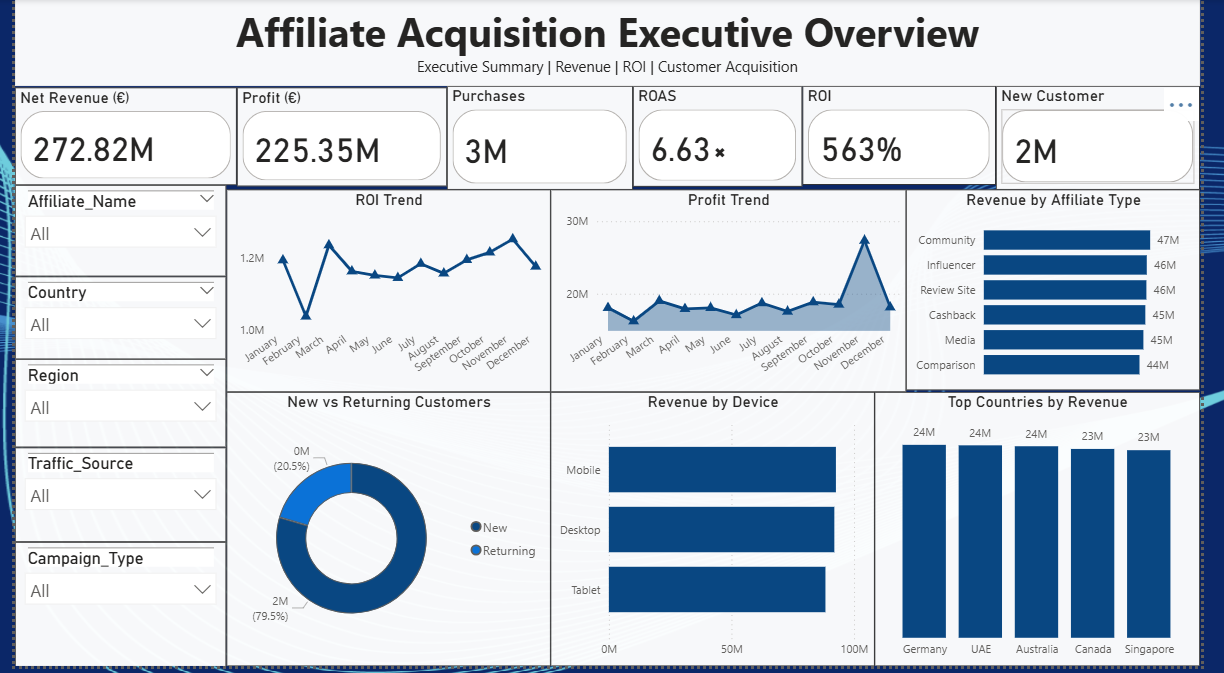

The dashboard page shown, as its layout file describes it:
{"tool":"powerbi","page":{"name":"Executive Overview","canvas":[1280,720],"ordinal":0},"visuals":[{"type":"cardVisual","title":"Net Revenue (€)","fields":{"Data":["Sum(Sheet1.Net_Revenue)"]},"box":[0,95.5,239.6,105.2],"z":0},{"type":"cardVisual","title":"Profit (€)","fields":{"Data":["Sum(Sheet1.Profit)"]},"box":[239.6,95.5,226.7,106.9],"z":1000},{"type":"cardVisual","title":"Purchases","fields":{"Data":["Sum(Sheet1.Purchases)"]},"box":[466.3,93.9,200.8,111.7],"z":2000},{"type":"cardVisual","title":"ROAS","fields":{"Data":["Sheet1.ROAS Display"]},"box":[667.1,93.9,183,108.5],"z":3000},{"type":"cardVisual","title":"ROI","fields":{"Data":["Sheet1.ROI Ratio"]},"box":[850.1,93.9,208.9,106.9],"z":4000},{"type":"cardVisual","title":"New Customer","fields":{"Data":["Sum(Sheet1.New_Customers)"]},"box":[1059,93.9,220.2,111.7],"z":5000},{"type":"lineChart","title":"ROI Trend","fields":{"Category":["Sheet1.Date.Variation.Date Hierarchy.Month"],"Y":["Sum(Sheet1.ROI)"]},"box":[228.3,205.6,349.8,218.6],"z":6000},{"type":"areaChart","title":"Profit Trend","fields":{"Category":["Sheet1.Date.Variation.Date Hierarchy.Month"],"Y":["Sum(Sheet1.Profit)"]},"box":[578.1,205.6,383.8,218.6],"z":7000},{"type":"barChart","title":"Revenue by Affiliate Type","fields":{"Category":["Sheet1.Affiliate_Type"],"Y":["Sum(Sheet1.Net_Revenue)"]},"box":[961.8,205.6,317.4,217],"z":8000},{"type":"columnChart","title":"Top Countries by Revenue","fields":{"Category":["Sheet1.Country"],"Y":["Sum(Sheet1.Net_Revenue)"]},"box":[927.8,424.2,351.4,296.3],"z":9000},{"type":"donutChart","title":"New vs Returning Customers","fields":{"Y":["Sum(Sheet1.New_Customers)","Sum(Sheet1.Returning_Customers)"]},"box":[228.3,424.2,349.8,296.3],"z":10000},{"type":"clusteredBarChart","title":"Revenue by Device","fields":{"Category":["Sheet1.Device"],"Y":["Sum(Sheet1.Net_Revenue)"]},"box":[578.1,424.2,349.8,296.3],"z":11000},{"type":"slicer","fields":{"Values":["Sheet1.Affiliate_Name"]},"box":[0,200.8,228.3,98.8],"z":12000},{"type":"slicer","fields":{"Values":["Sheet1.Country"]},"box":[0,299.6,228.3,89.1],"z":13000},{"type":"slicer","fields":{"Values":["Sheet1.Region"]},"box":[0,388.6,228.3,95.5],"z":14000},{"type":"slicer","fields":{"Values":["Sheet1.Traffic_Source"]},"box":[0,484.1,228.3,102],"z":15000},{"type":"slicer","fields":{"Values":["Sheet1.Campaign_Type"]},"box":[0,586.2,228.3,134.4],"z":16000},{"type":"textbox","box":[0,0,1279.2,93.9],"z":17000}]}

Visuals, with their boxes in screenshot pixels (x1, y1, x2, y2), scaled from the page's 1280x720 canvas onto the 1224x673 screenshot:
"Net Revenue (€)" cardVisual: (x1=0, y1=89, x2=229, y2=188)
"Profit (€)" cardVisual: (x1=229, y1=89, x2=446, y2=189)
"Purchases" cardVisual: (x1=446, y1=88, x2=638, y2=192)
"ROAS" cardVisual: (x1=638, y1=88, x2=813, y2=189)
"ROI" cardVisual: (x1=813, y1=88, x2=1013, y2=188)
"New Customer" cardVisual: (x1=1013, y1=88, x2=1223, y2=192)
"ROI Trend" lineChart: (x1=218, y1=192, x2=553, y2=397)
"Profit Trend" areaChart: (x1=553, y1=192, x2=920, y2=397)
"Revenue by Affiliate Type" barChart: (x1=920, y1=192, x2=1223, y2=395)
"Top Countries by Revenue" columnChart: (x1=887, y1=397, x2=1223, y2=672)
"New vs Returning Customers" donutChart: (x1=218, y1=397, x2=553, y2=672)
"Revenue by Device" clusteredBarChart: (x1=553, y1=397, x2=887, y2=672)
slicer - Sheet1.Affiliate_Name: (x1=0, y1=188, x2=218, y2=280)
slicer - Sheet1.Country: (x1=0, y1=280, x2=218, y2=363)
slicer - Sheet1.Region: (x1=0, y1=363, x2=218, y2=452)
slicer - Sheet1.Traffic_Source: (x1=0, y1=452, x2=218, y2=548)
slicer - Sheet1.Campaign_Type: (x1=0, y1=548, x2=218, y2=672)
textbox: (x1=0, y1=0, x2=1223, y2=88)
